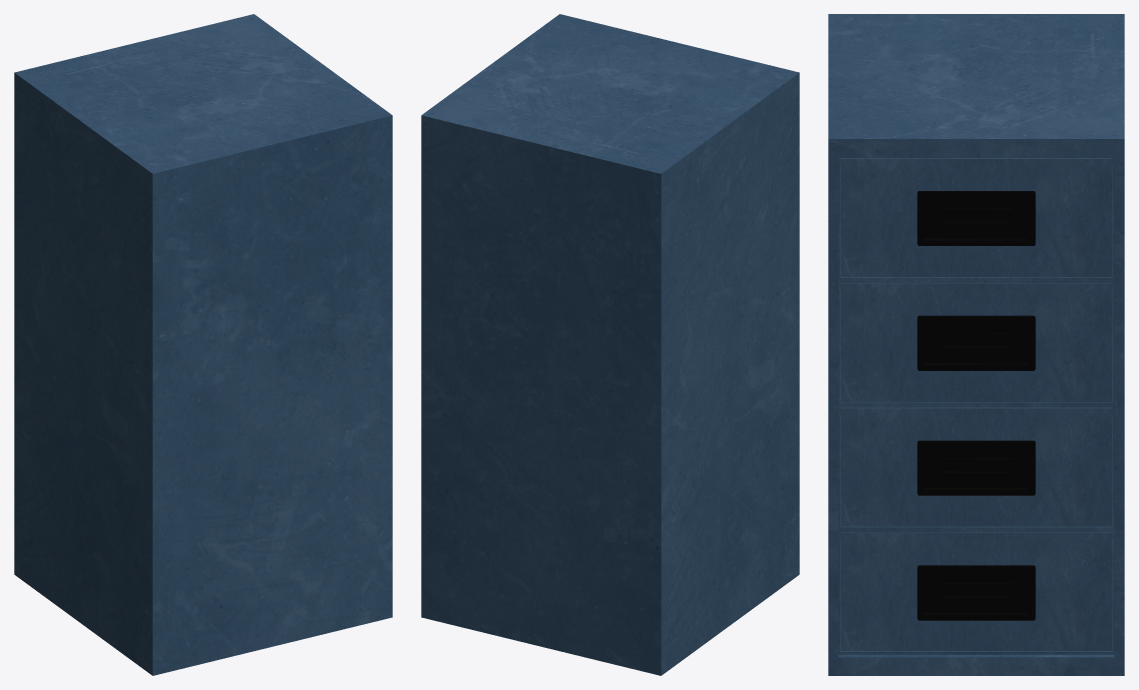
File: blue_filing_cabinet.obj
The picture shows the model from 3 angles, left to right: view 1: azimuth 30°, elevation 25°; view 2: azimuth 150°, elevation 25°; view 3: azimuth 270°, elevation 25°; orthographic projection. The views are drawn at different scales.
Parts seen in each view (by area): view 1: blue_filing_cabinet; view 2: blue_filing_cabinet; view 3: blue_filing_cabinet, drawer_2, drawer_1, drawer_4, drawer_3.
Boxes of the visible parts, x1,y1,x2,y2 form: blue_filing_cabinet: (14, 14, 392, 675); blue_filing_cabinet: (421, 14, 799, 675); blue_filing_cabinet: (828, 14, 1124, 675); drawer_2: (840, 407, 1112, 526); drawer_1: (840, 532, 1112, 651); drawer_4: (840, 158, 1112, 276); drawer_3: (840, 283, 1112, 401).
Size of the model in its own units: 0.5 by 1 by 0.5.
